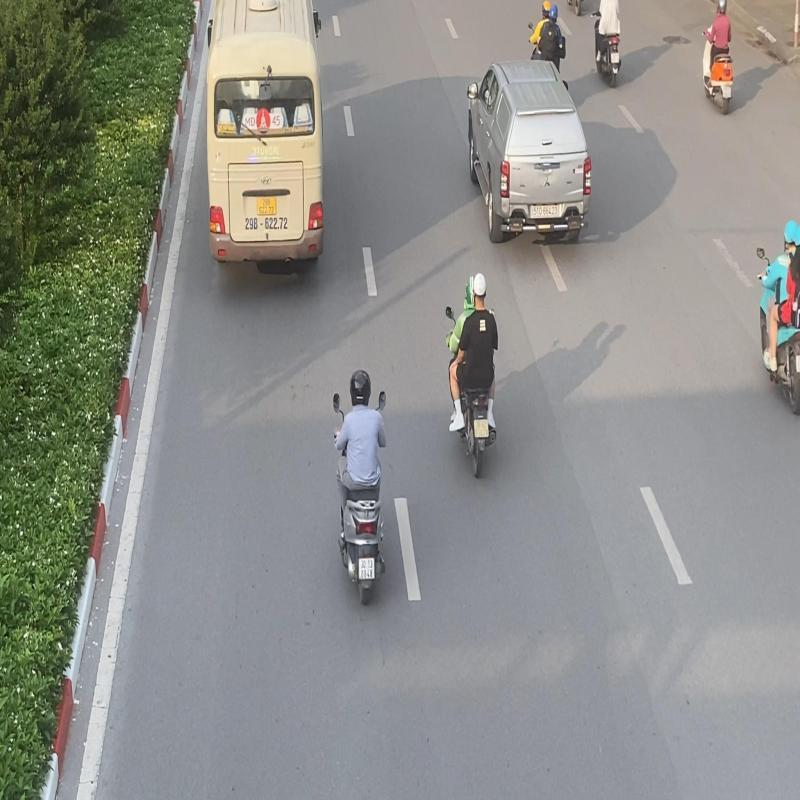helmet: (349, 369, 372, 409), (464, 275, 478, 306), (472, 272, 488, 297)
licenseplate: (358, 556, 374, 580), (473, 418, 488, 439)
motorcyclist: (333, 368, 388, 608), (444, 272, 500, 480)
